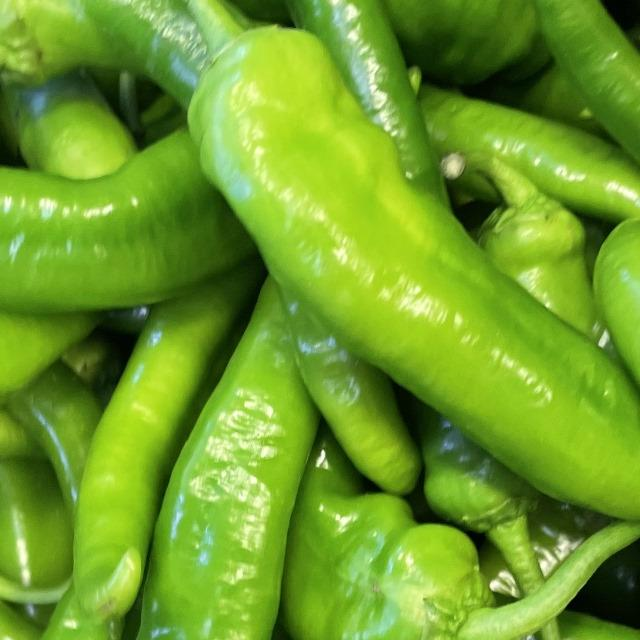chili_pepper: (105, 252, 402, 640)
